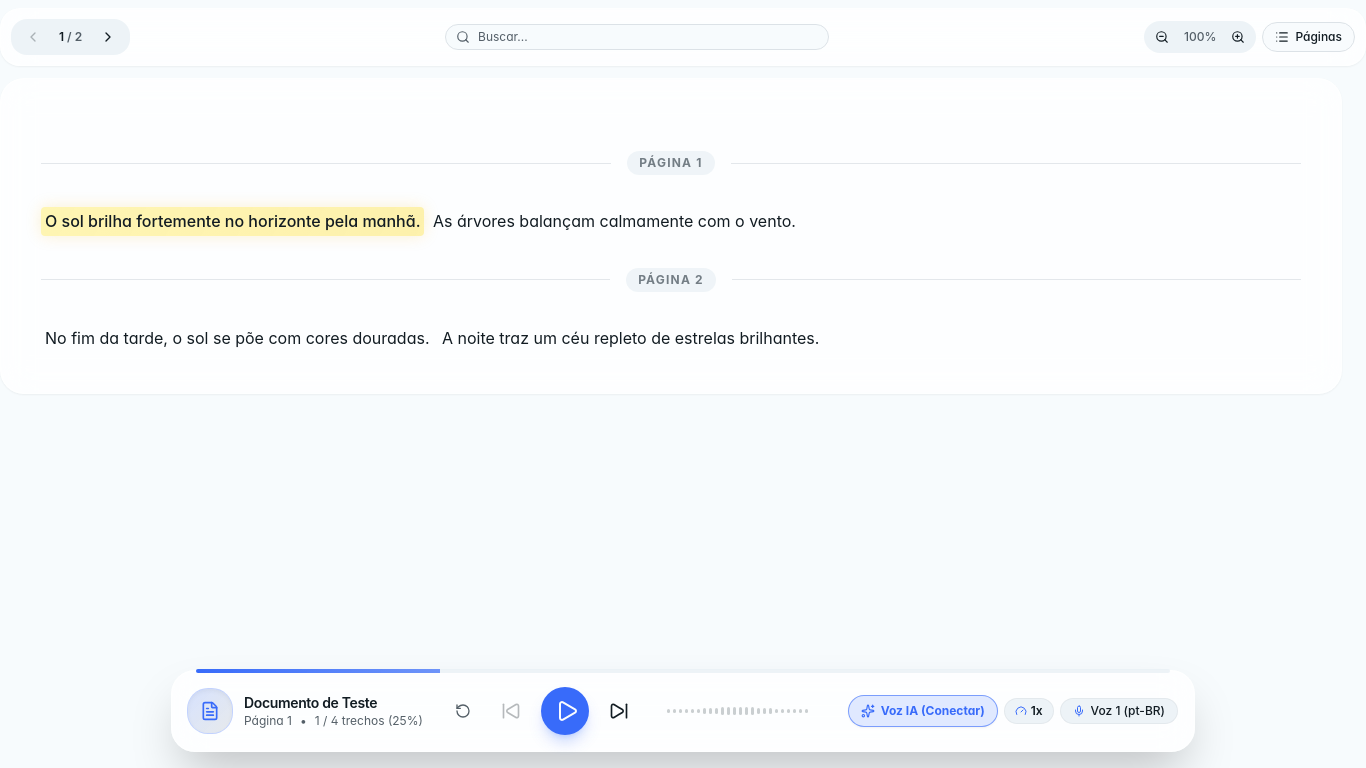
ModernStudioTemplate - Sistema de Busca e Navegação de Ocorrências › deve navegar para a próxima ocorrência ao clicar no botão descer e rolar a tela
Type "sol" into the search field with placeholder "Buscar...".
click(637, 37); type("sol")  # box top-left (446, 25), bottom-right (828, 49)
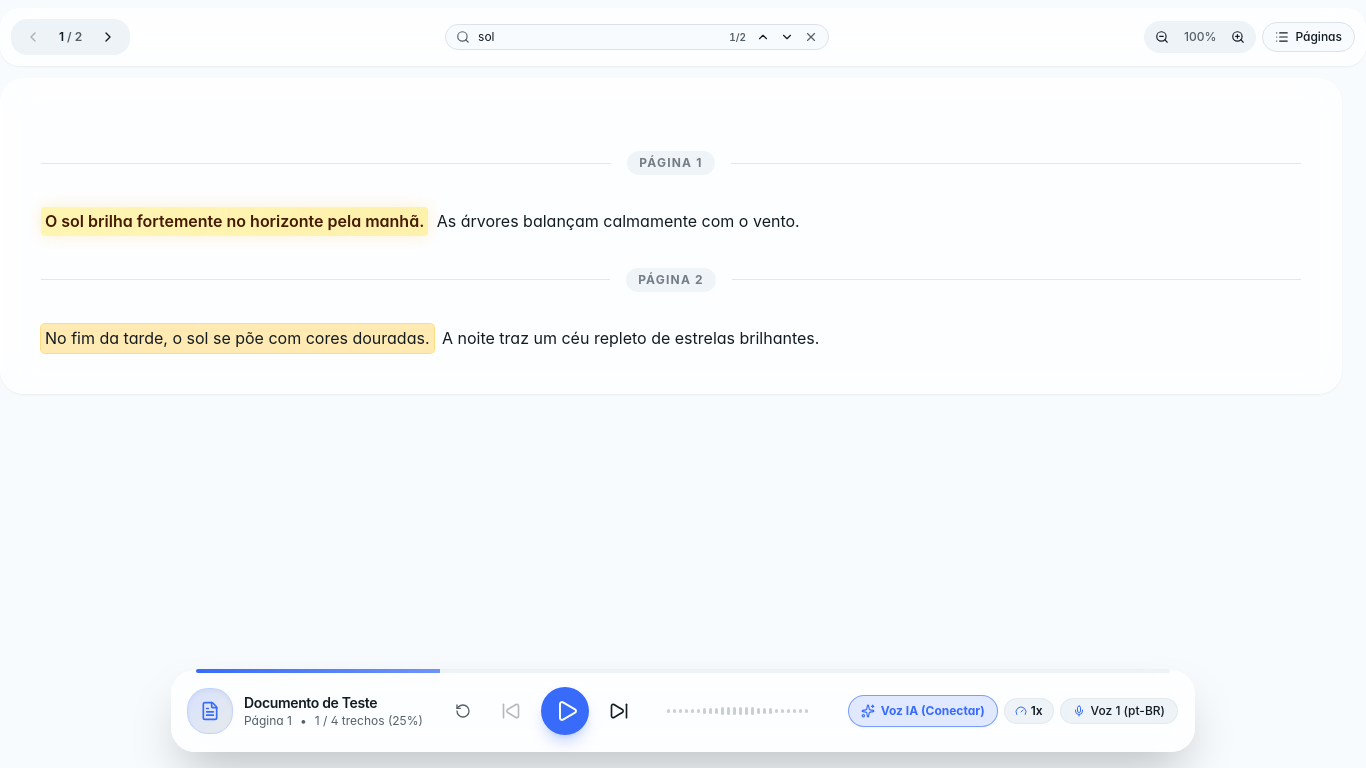
Click the button named "próxima ocorrência".
click(787, 37)  # box top-left (776, 26), bottom-right (798, 48)
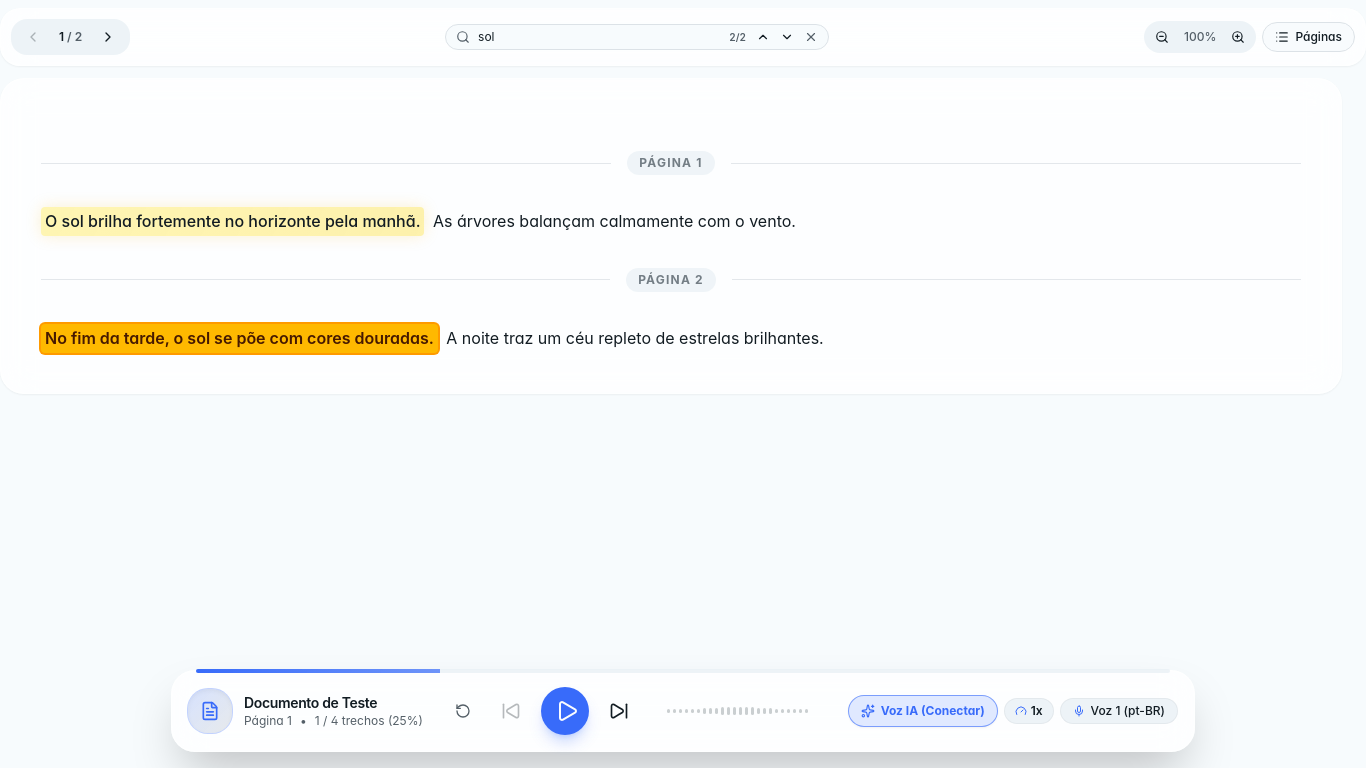
Expected: the text "2/2" is shown, top-left (729, 30), bottom-right (746, 42)
